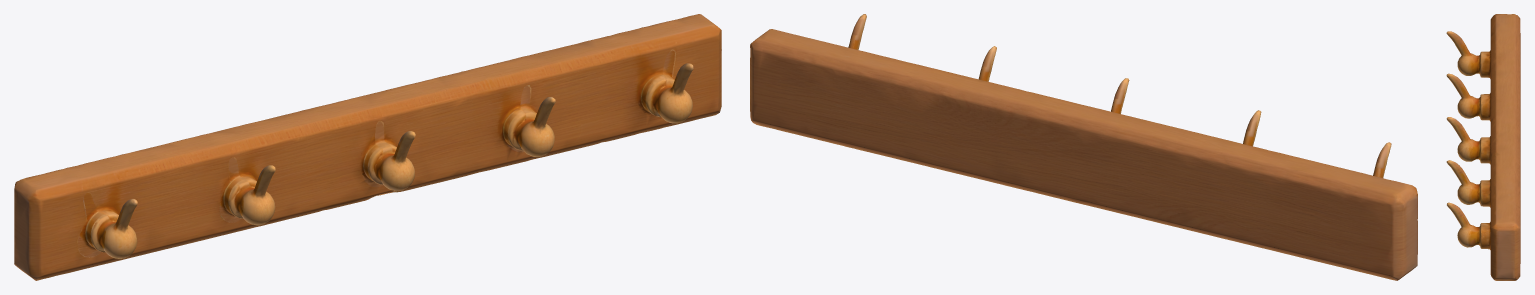
File: Meshy_AI_askılık_0108001807_texture.fbx
3 renders of one model, left to right at view 1: azimuth 30°, elevation 25°; view 2: azimuth 150°, elevation 25°; view 3: azimuth 270°, elevation 25°, orthographic. The views are drawn at different scales.
Visible parts, largest first — view 1: Mesh_0; view 2: Mesh_0; view 3: Mesh_0.
Boxes of the visible parts, x1,y1,x2,y2 form: Mesh_0: (14,14,721,280); Mesh_0: (750,14,1417,280); Mesh_0: (1446,14,1520,280).
Size of the model in its own units: 191 by 24.71 by 27.97.
1 material, 1 textured.
